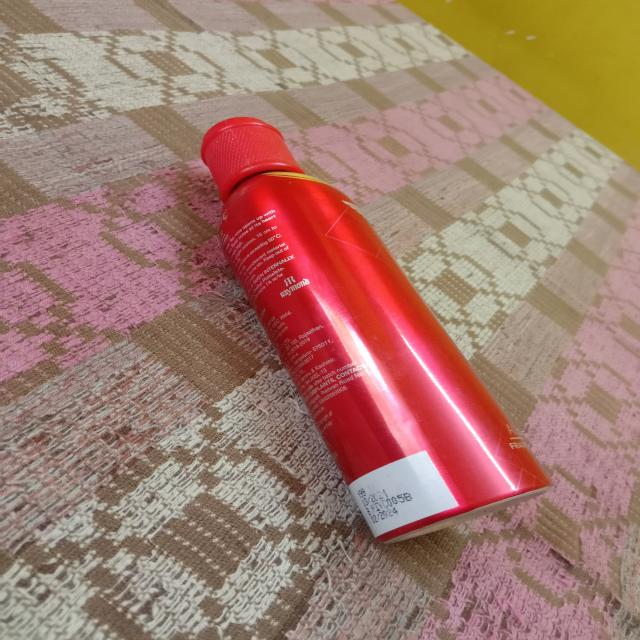deodorant: (189, 106, 555, 545)
